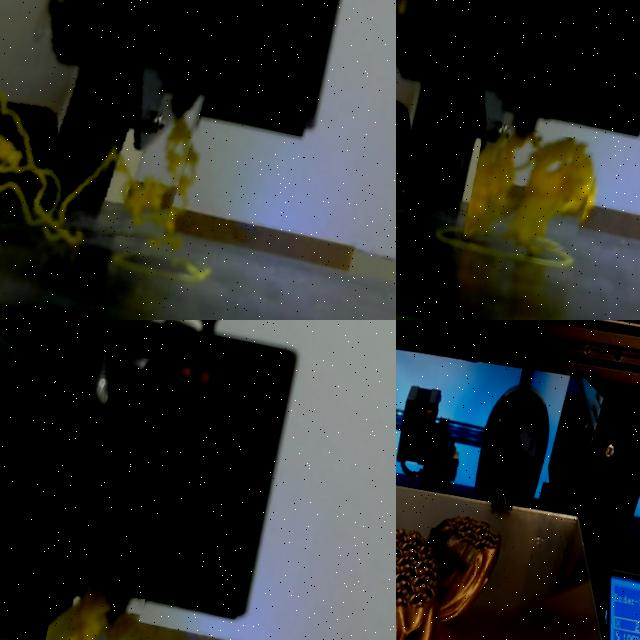spaghetti: (0, 91, 193, 233), (463, 129, 593, 247), (46, 589, 136, 640)
